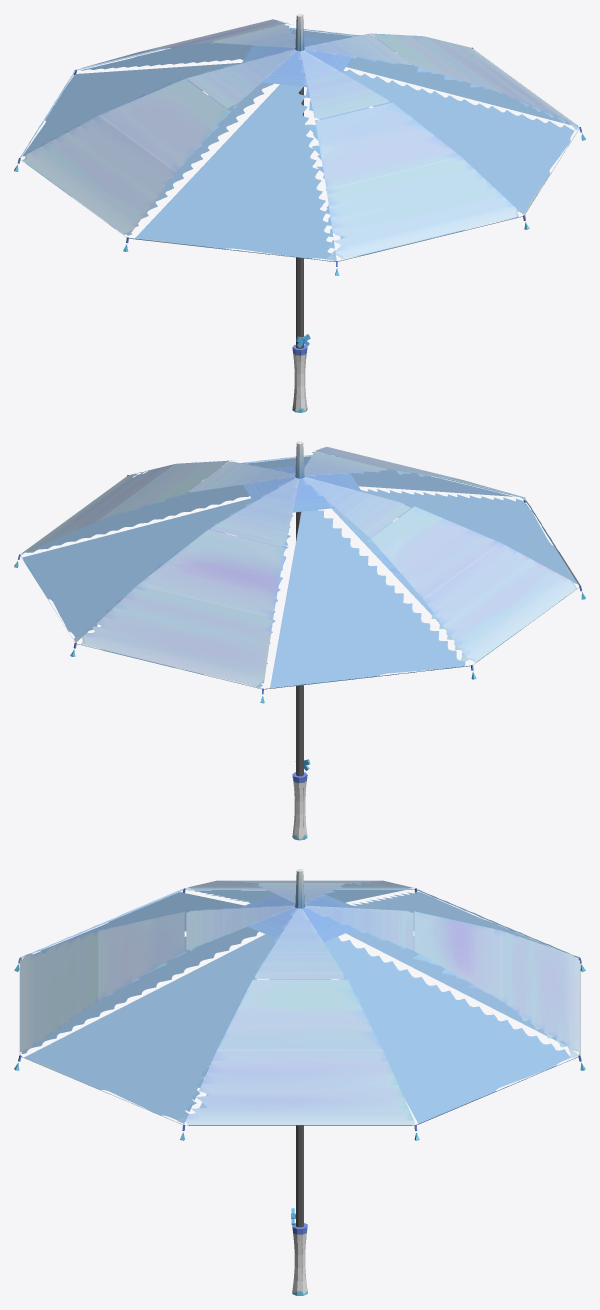
The model's file is rainy_butterfly_open.obj.
3 views of the same model, one above another, from view 1: azimuth 30°, elevation 25°; view 2: azimuth 150°, elevation 25°; view 3: azimuth 270°, elevation 25° (orthographic). The views are drawn at different scales.
Parts seen in each view (by area): view 1: cylinder_selection; view 2: cylinder_selection; view 3: cylinder_selection.
Part boxes in pixels (x1,y1,x2,y2): cylinder_selection: [14, 14, 585, 412]; cylinder_selection: [14, 441, 585, 840]; cylinder_selection: [14, 869, 585, 1295].
Bounding box in the file's own units: 1.12 × 0.9131 × 1.12.
